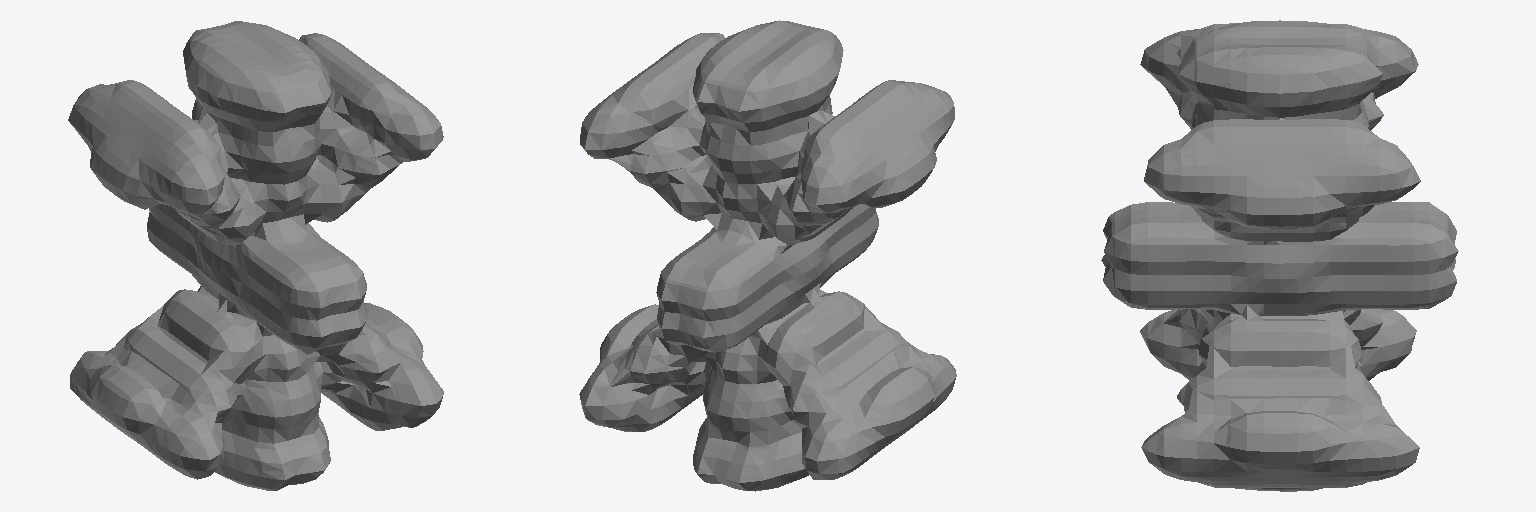
URDF robot description (cube.urdf):
<?xml version="0.0" ?> 
<robot name="cube.urdf"> 
<link name="legobrick"> 
<contact> 
<lateral_friction value="5.0"/> 
<rolling_friction value="0.0"/> 
<contact_cfm value="0.0"/> 
<contact_erp value="1.0"/> 
</contact> 
<inertial> 
<origin rpy="0 0 0" xyz="0.0 0.0 0.0"/> 
<mass value=".01"/> 
<inertia ixx="1" ixy="0" ixz="0" iyy="1" iyz="0" izz="1"/> 
</inertial> 
<visual> 
<origin rpy="1.570796 0 0" xyz="-0.03479896195521969 0.03479267628262256 -0.034831463823244355"/> 
<geometry> 
<mesh filename="O25_2.obj" scale="0.0007400500945697264 0.0007400500945697264 0.0007400500945697264"/> 
</geometry> 
<material name="yellow"> 
<color rgba="0.6 0.6 0.6 1"/> 
</material> 
</visual> 
<collision> 
<origin rpy="1.570796 0 0" xyz="-0.03479896195521969 0.03479267628262256 -0.034831463823244355"/> 
<geometry> 
<mesh filename="O25_2.obj" scale="0.0007400500945697264 0.0007400500945697264 0.0007400500945697264"/> 
</geometry> 
</collision> 
</link> 
</robot>

--- What the picture shows (computed from the rendered views, not written in the file) ---
The picture shows the robot from 3 angles, left to right: view 1: azimuth 30°, elevation 25°; view 2: azimuth 150°, elevation 25°; view 3: azimuth 270°, elevation 25°; orthographic projection.
Model cube.urdf with 1 links and 0 joints (none), rooted at legobrick, posed all joints at 0.
Links seen in each view (by area): view 1: legobrick; view 2: legobrick; view 3: legobrick.
Boxes of the visible links, x1=… form: legobrick: x1=68, y1=21, x2=443, y2=490; legobrick: x1=579, y1=20, x2=956, y2=491; legobrick: x1=1101, y1=20, x2=1458, y2=491.
Size in the robot's own frame: 0.056 by 0.0546 by 0.0738 metres.
1 mesh visuals loaded from 1 distinct referenced files (1 OBJ).
